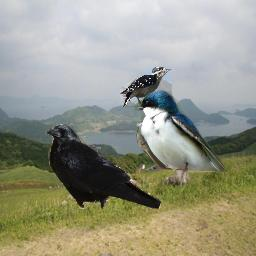Crow: (45, 124, 161, 209)
Swallow: (134, 89, 229, 185)
Woodpecker: (119, 66, 172, 107)
